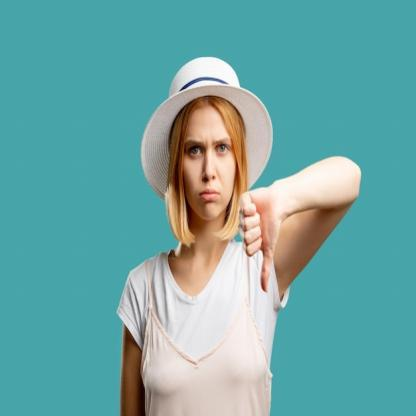thumb_down: (237, 180, 280, 296)
